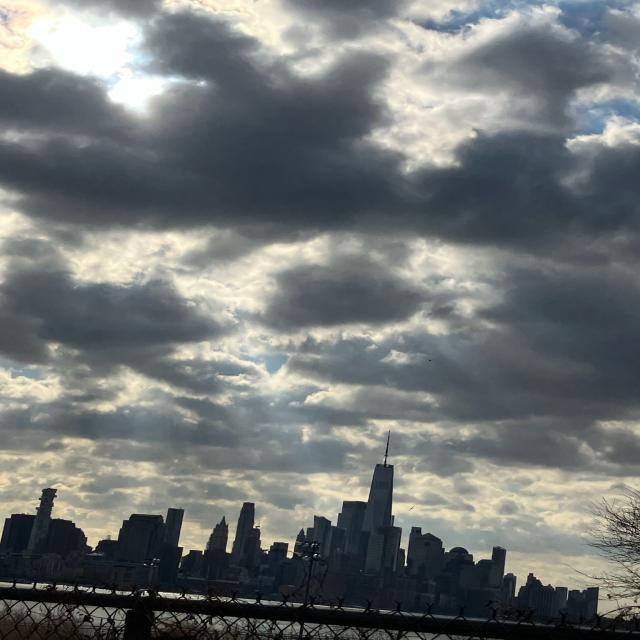WTC: (367, 425, 395, 528)
